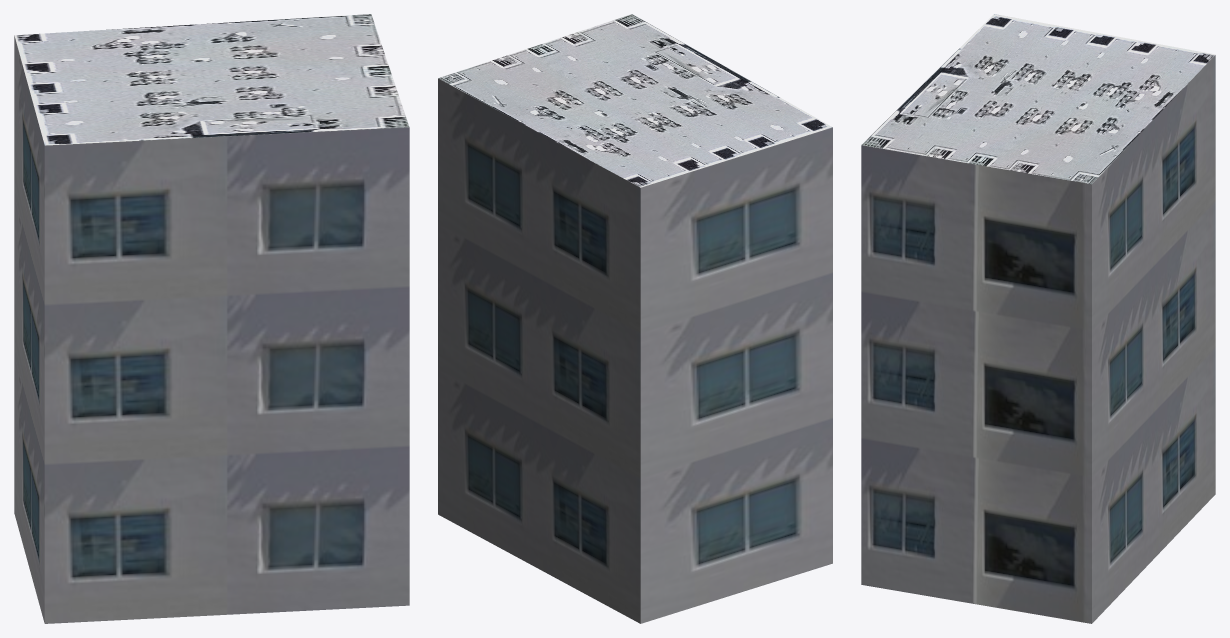
File: ResTex__882.fbx
3 views of the same model, side by side, from view 1: azimuth 30°, elevation 25°; view 2: azimuth 150°, elevation 25°; view 3: azimuth 270°, elevation 25° (orthographic). The views are drawn at different scales.
Parts seen in each view (by area): view 1: CityEngineMaterial_10_m, CityEngineMaterial_8_m; view 2: CityEngineMaterial_10_m, CityEngineMaterial_8_m; view 3: CityEngineMaterial_10_m, CityEngineMaterial_8_m.
Boxes of the visible parts, x1,y1,x2,y2 form: CityEngineMaterial_10_m: (14, 35, 409, 623); CityEngineMaterial_8_m: (14, 14, 409, 145); CityEngineMaterial_10_m: (438, 78, 832, 623); CityEngineMaterial_8_m: (438, 14, 832, 187); CityEngineMaterial_10_m: (861, 55, 1215, 623); CityEngineMaterial_8_m: (861, 14, 1215, 184).
Bounding box in the file's own units: 7.48 × 9 × 6.58.
2 materials, 2 textured.
